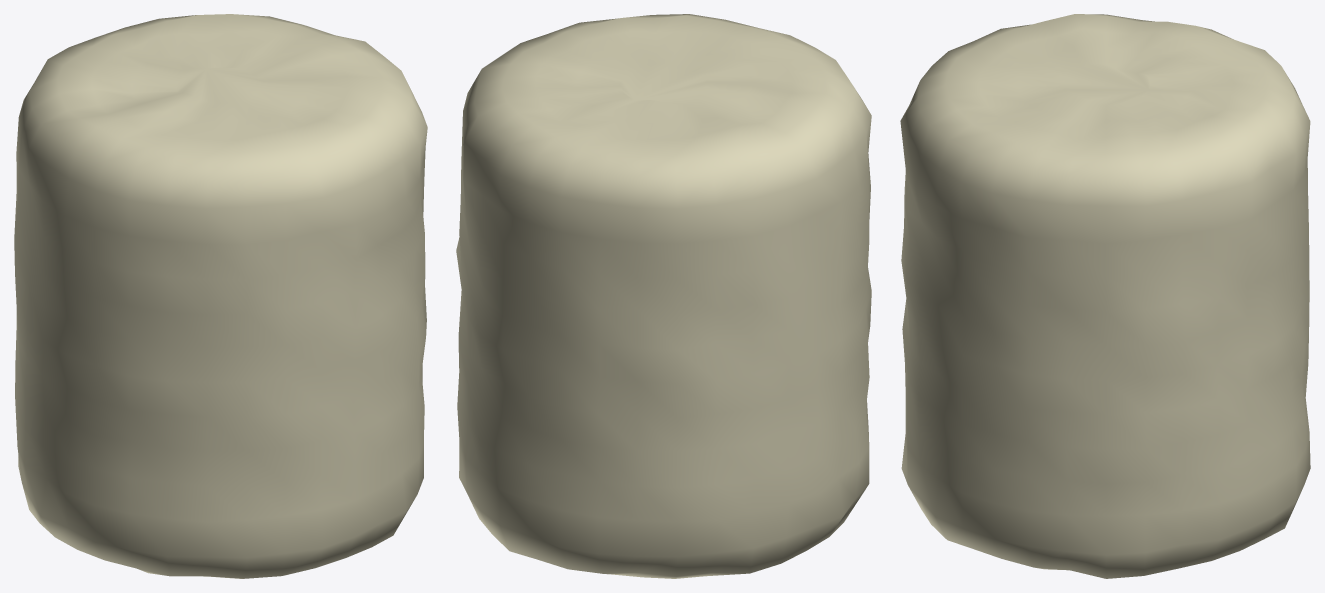
The model's file is Marshmallow.fbx.
The picture shows the model from 3 angles, left to right: view 1: azimuth 30°, elevation 25°; view 2: azimuth 150°, elevation 25°; view 3: azimuth 270°, elevation 25°; orthographic projection.
Visible parts, largest first — view 1: Cylinder; view 2: Cylinder; view 3: Cylinder.
Part boxes in pixels (<box>): Cylinder: <box>14,14,427,578</box>; Cylinder: <box>456,14,871,578</box>; Cylinder: <box>900,14,1310,578</box>.
Bounding box in the file's own units: 213 × 246 × 213.
